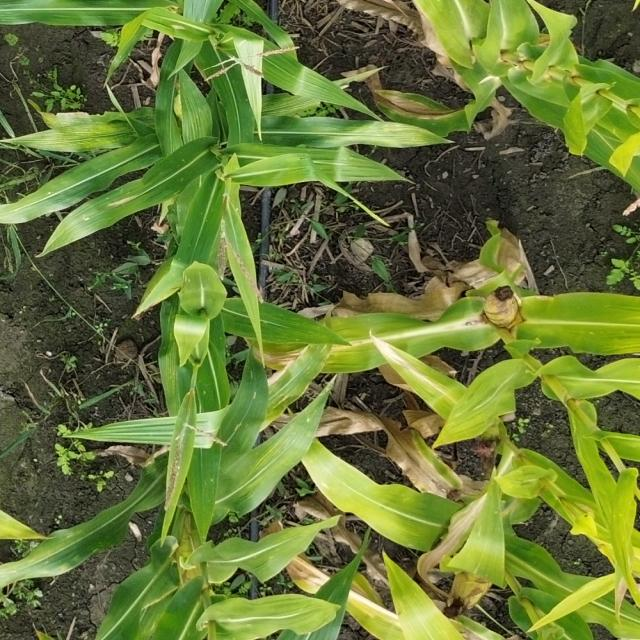gray-leaf-spot: (248, 325, 336, 435), (152, 299, 223, 420)
northern-leaf-blight: (377, 337, 458, 411)
southern-leaf-blight: (73, 152, 205, 236), (33, 90, 152, 172)
